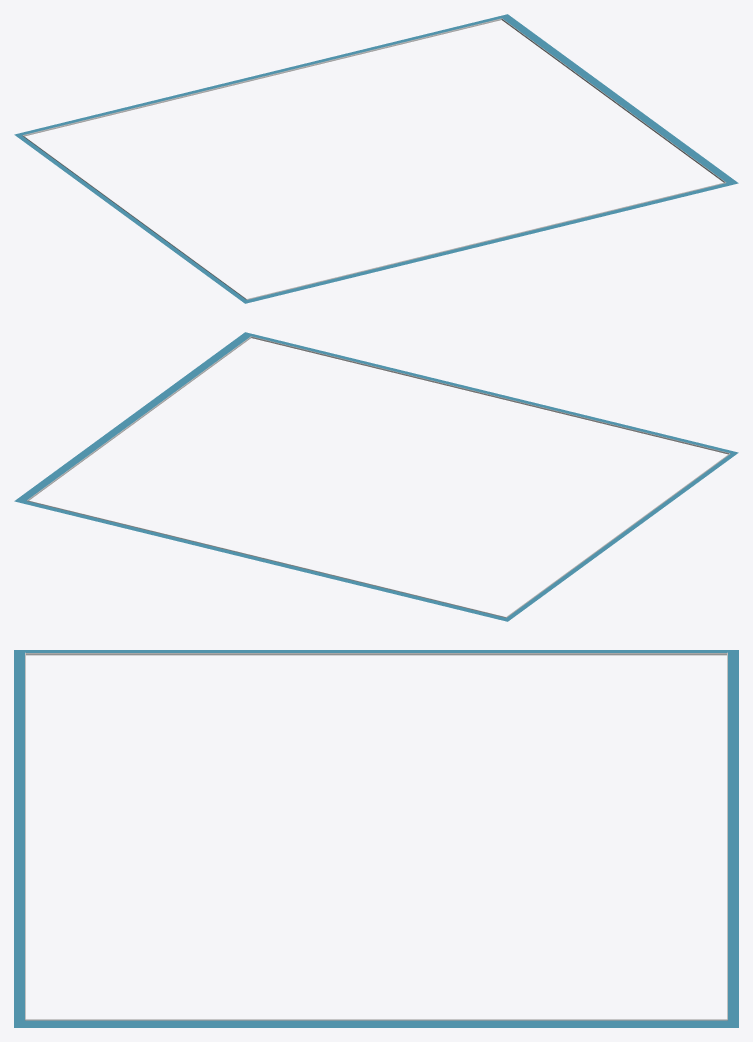
Rendered from Barrier 2.fbx.
The picture shows the model from 3 angles, top to bottom: view 1: azimuth 30°, elevation 25°; view 2: azimuth 150°, elevation 25°; view 3: azimuth 270°, elevation 25°; orthographic projection. The views are drawn at different scales.
Parts seen in each view (by area): view 1: Cube.301, Cube.268, Cube.289, Cube.299; view 2: Cube.301, Cube.289, Cube.268, Cube.299; view 3: Cube.301, Cube.300, Cube.299.
Boxes of the visible parts, x1,y1,x2,y2 form: Cube.301: (14,14,738,303); Cube.268: (22,18,501,136); Cube.289: (246,182,726,299); Cube.299: (501,18,725,182); Cube.301: (14,332,738,621); Cube.289: (251,336,730,454); Cube.268: (26,500,506,617); Cube.299: (27,336,251,500); Cube.301: (14,650,738,1027); Cube.300: (26,653,726,655); Cube.299: (26,1019,726,1020).
Bounding box in the file's own units: 26524 × 72.01 × 21510.
